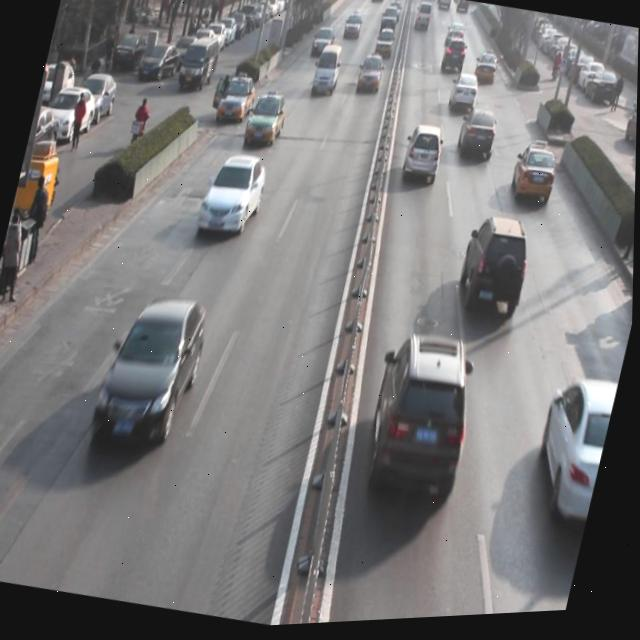car: (354, 331, 489, 517), (88, 291, 215, 462), (526, 375, 618, 539), (451, 214, 540, 334), (196, 151, 271, 245), (507, 143, 563, 217), (399, 125, 449, 194), (453, 107, 502, 174), (243, 92, 291, 155), (213, 72, 259, 131), (352, 55, 387, 101), (448, 75, 482, 121), (439, 38, 470, 83), (471, 52, 503, 93), (310, 26, 336, 61), (373, 30, 398, 65), (341, 13, 365, 45)
truck: (308, 44, 346, 104)
